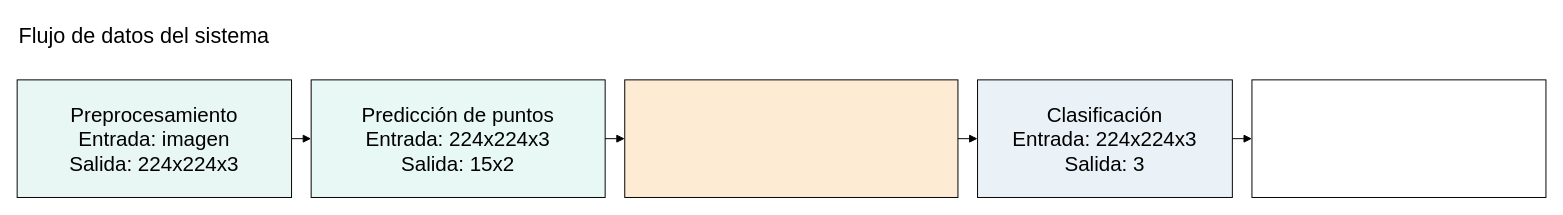
Image size: 1563x215. Some labels were removed from this diagram. The centre of each missing label's shape, as x and y in pixels:
"Normalización geométrica Entrada: imagen + puntos Salida: 224x224x3" belongs at (791,138).
"Salida final: clase diagnóstica" belongs at (1398,138).
